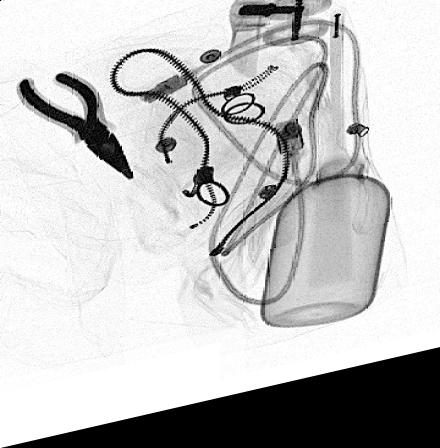Pliers: (16, 74, 134, 189)
